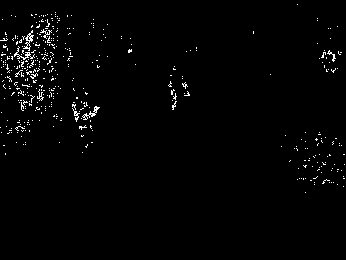person: (68, 87, 104, 150), (164, 65, 192, 113)
